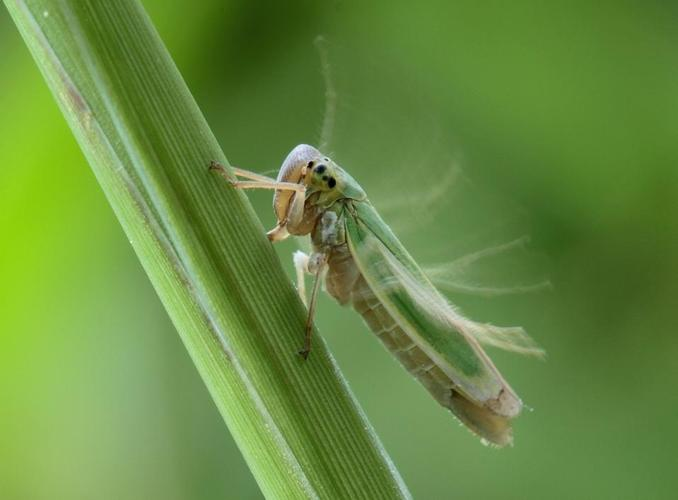Cicadellidae: (208, 144, 545, 449)
